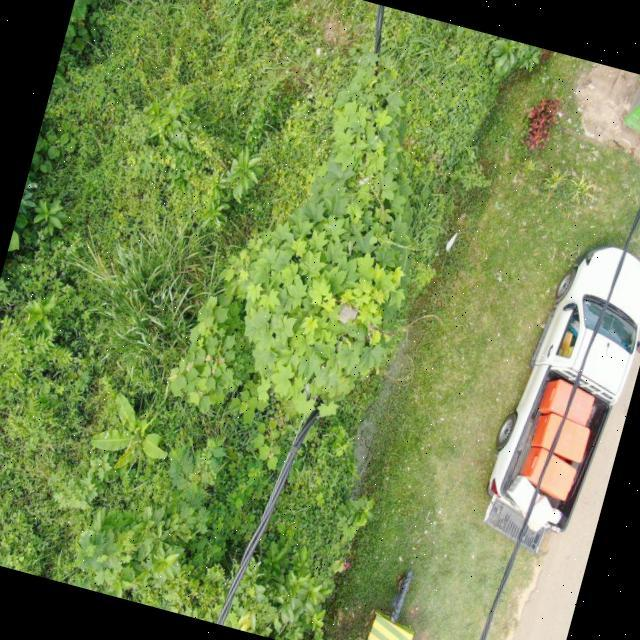critical vegetation: (205, 31, 478, 448)
